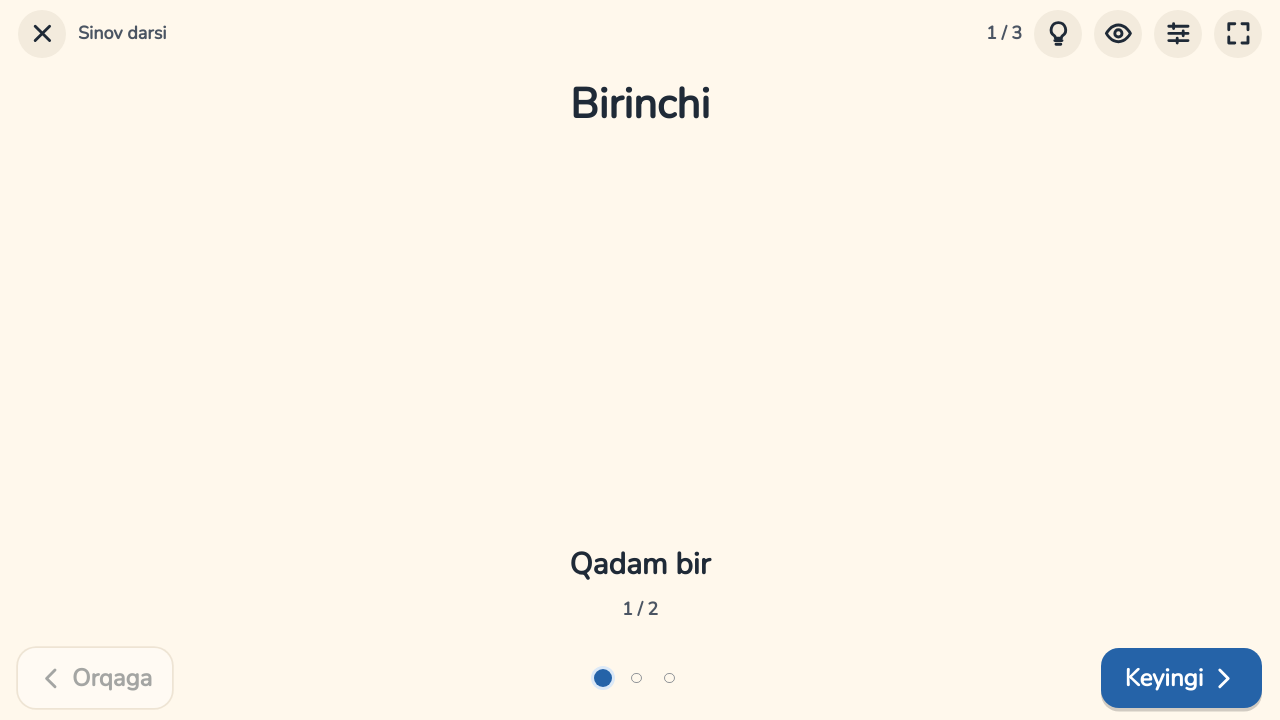
Test: Player › javob tanlash: xato — yumshoq ishora, to‘g‘ri — maqtov
Click the button named "3-sahna".
click(670, 678)  # box top-left (656, 665), bottom-right (683, 691)
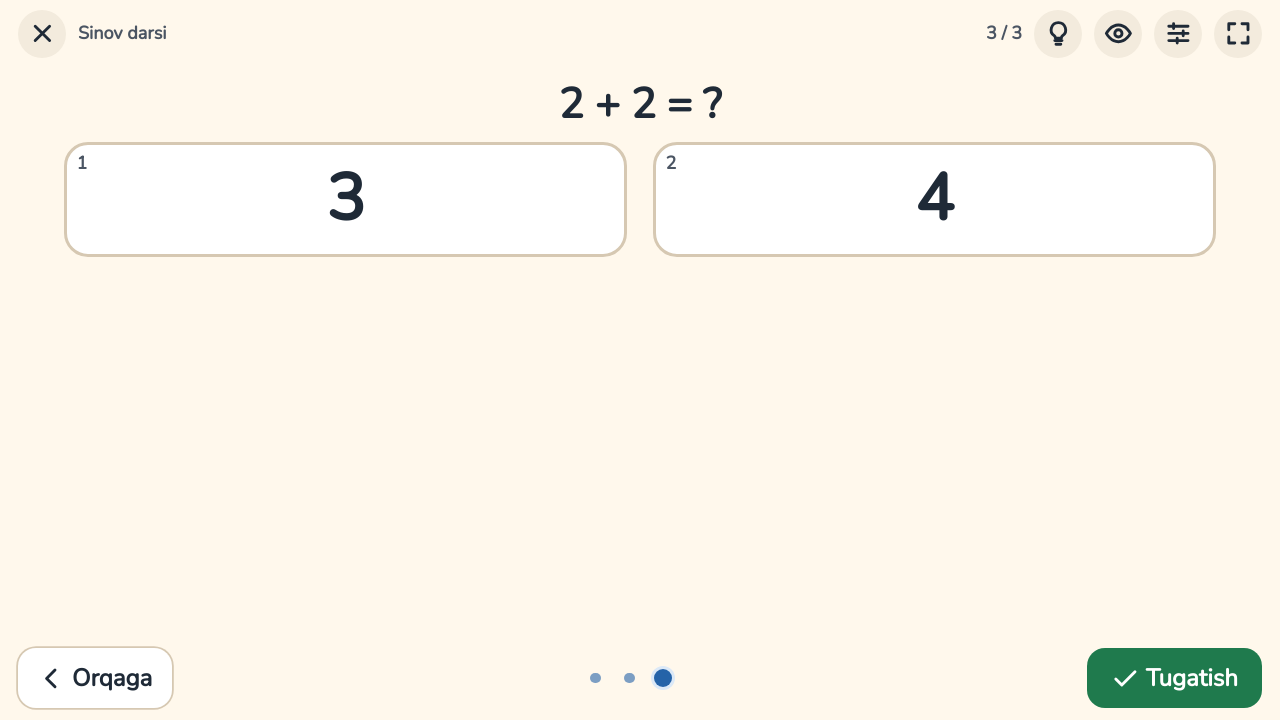
Click the button named "1-variant: 3".
click(346, 200)  # box top-left (64, 142), bottom-right (627, 257)
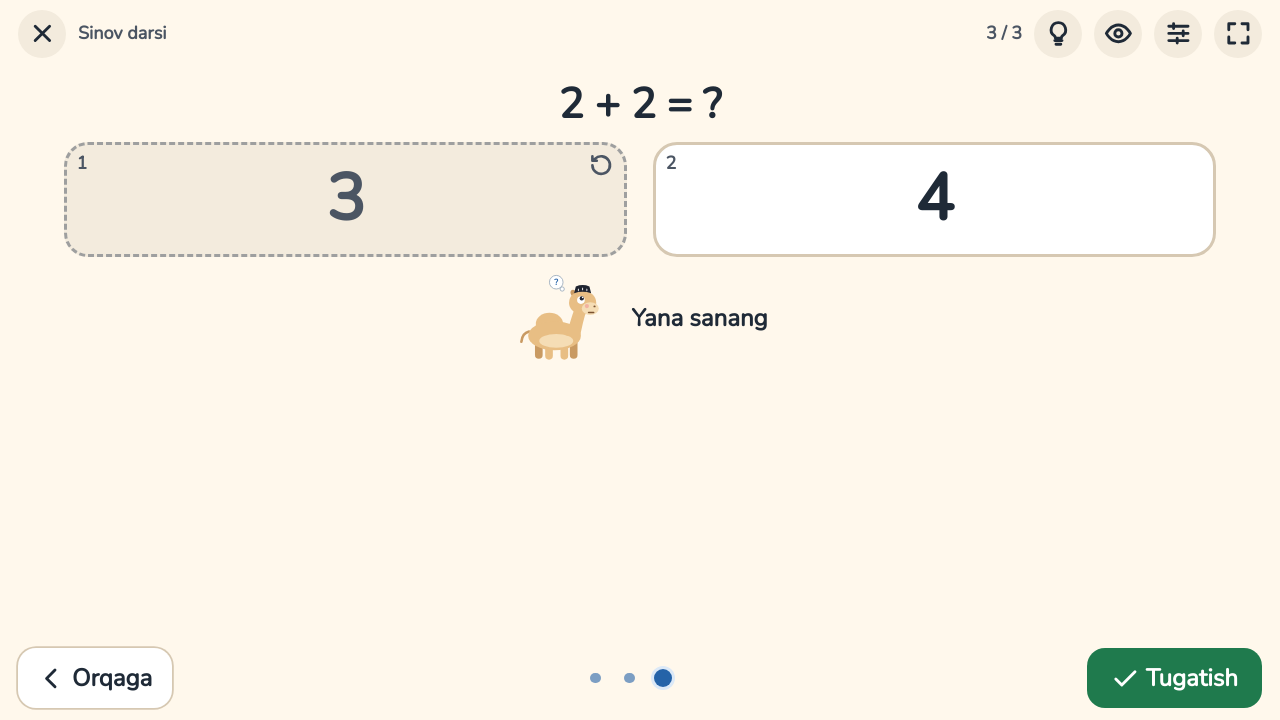
Expected: the text "Yana sanang" is shown, top-left (632, 302), bottom-right (768, 335)
Click the button named "2-variant: 4".
click(934, 200)  # box top-left (653, 142), bottom-right (1216, 257)
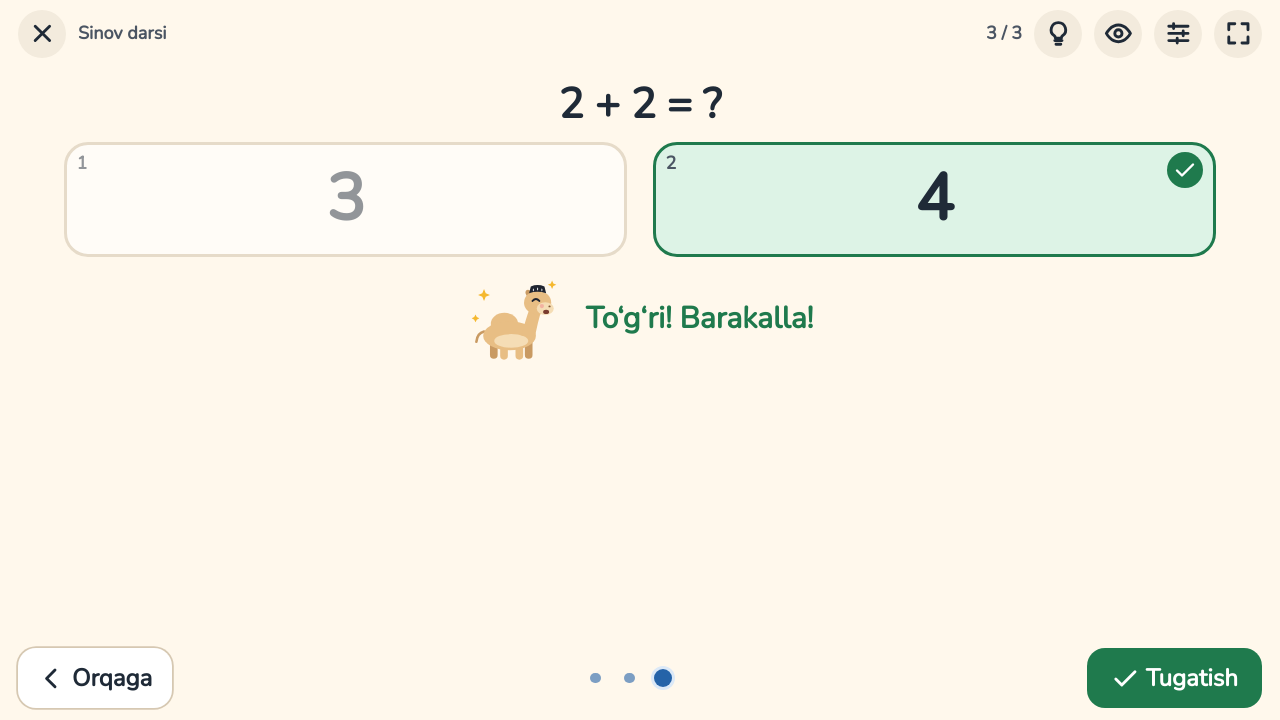
Expected: the button "Tugatish" is shown, top-left (1087, 648), bottom-right (1262, 708)
Expected: the text "To‘g‘ri! Barakalla!" is shown, top-left (586, 300), bottom-right (813, 337)
